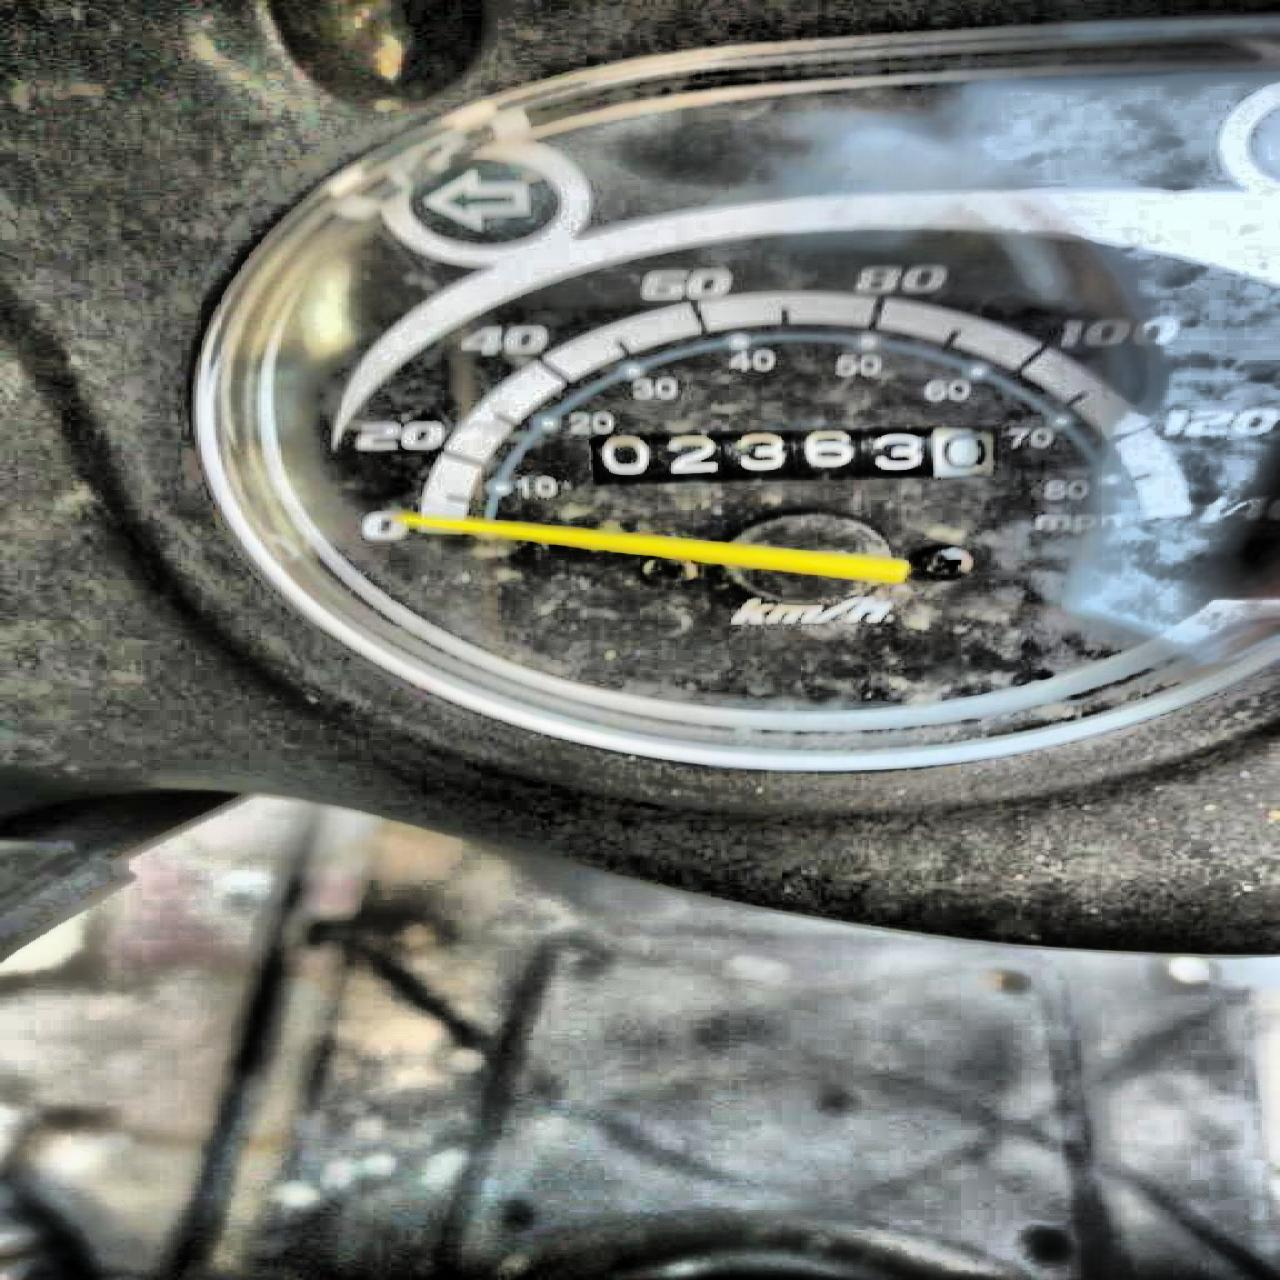0: (598, 434, 649, 475), (940, 433, 985, 469)
2: (665, 434, 717, 474)
3: (871, 431, 922, 470), (734, 431, 783, 470)
6: (802, 429, 851, 467)
odometer: (591, 425, 1009, 490)
